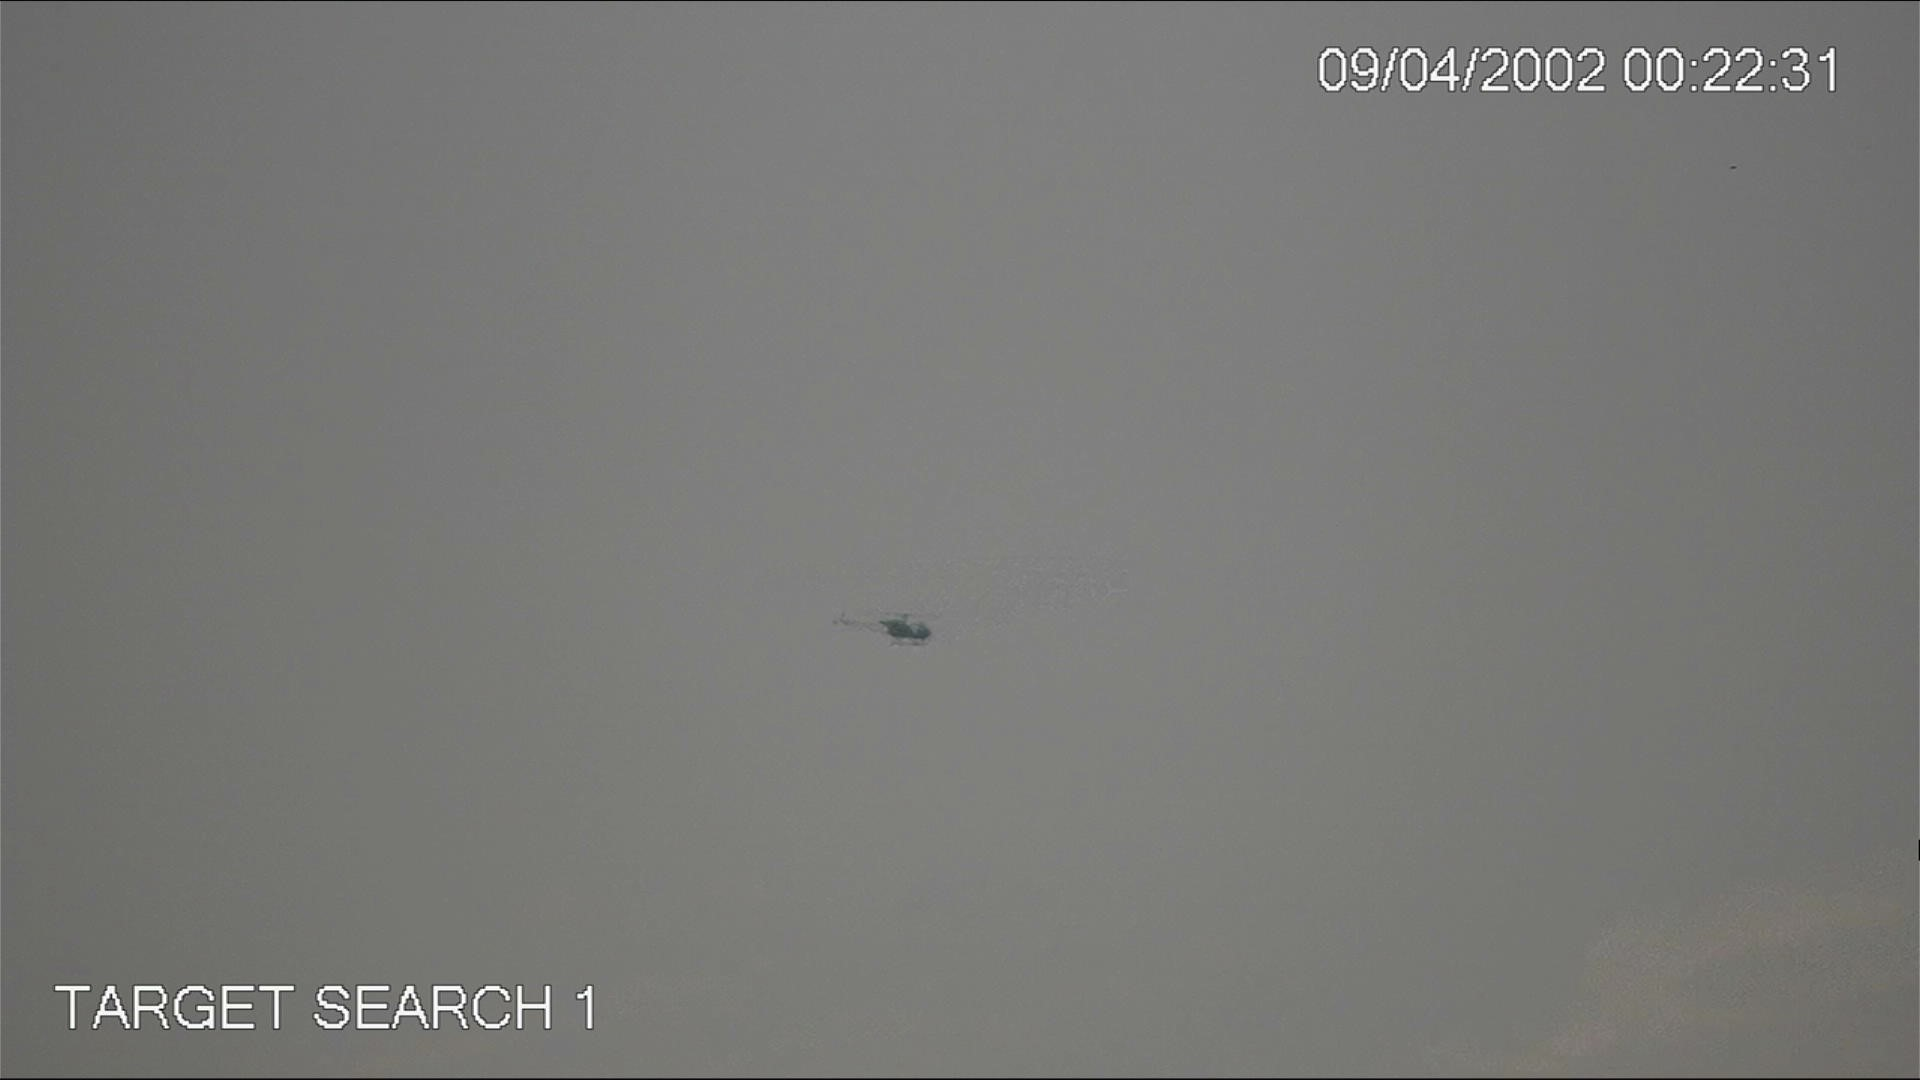SU_30: (835, 597, 936, 647)
